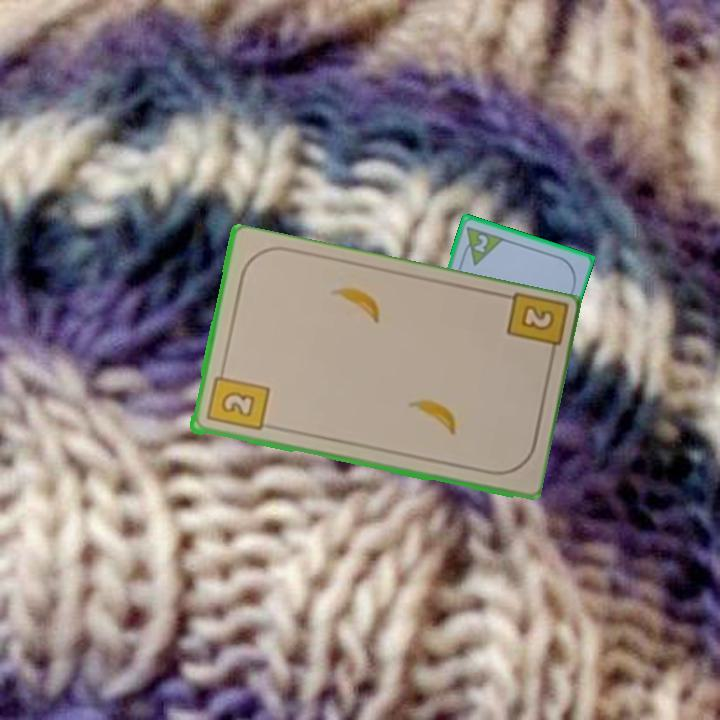2b: (502, 291, 567, 366), (202, 364, 271, 434)
2p: (470, 230, 491, 255)
